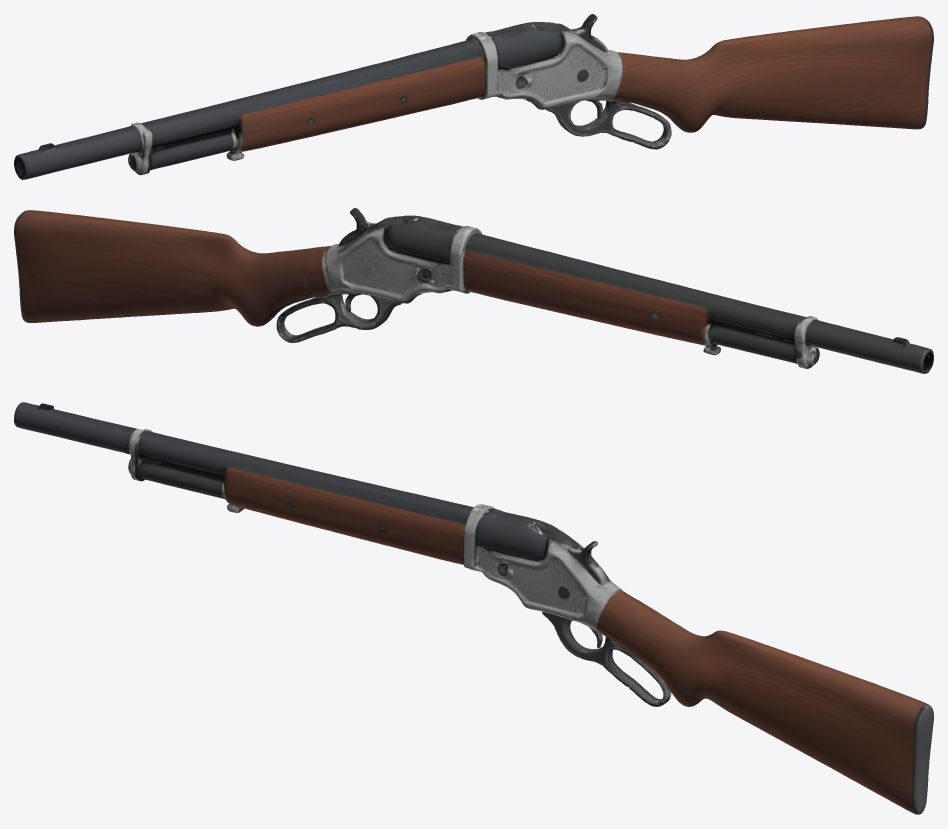
Rendered from Winchester_Model_1901_1114203539_texture.fbx.
The picture shows the model from 3 angles, top to bottom: view 1: azimuth 30°, elevation 25°; view 2: azimuth 150°, elevation 25°; view 3: azimuth 330°, elevation 25°; orthographic projection.
Parts seen in each view (by area): view 1: input; view 2: input; view 3: input.
Part boxes in pixels (x1,y1,x2,y2): input: (14, 14, 933, 179); input: (14, 208, 933, 373); input: (14, 402, 933, 814).
Bounding box in the file's own units: 190 × 40.13 × 8.77.
1 material, 1 textured.
